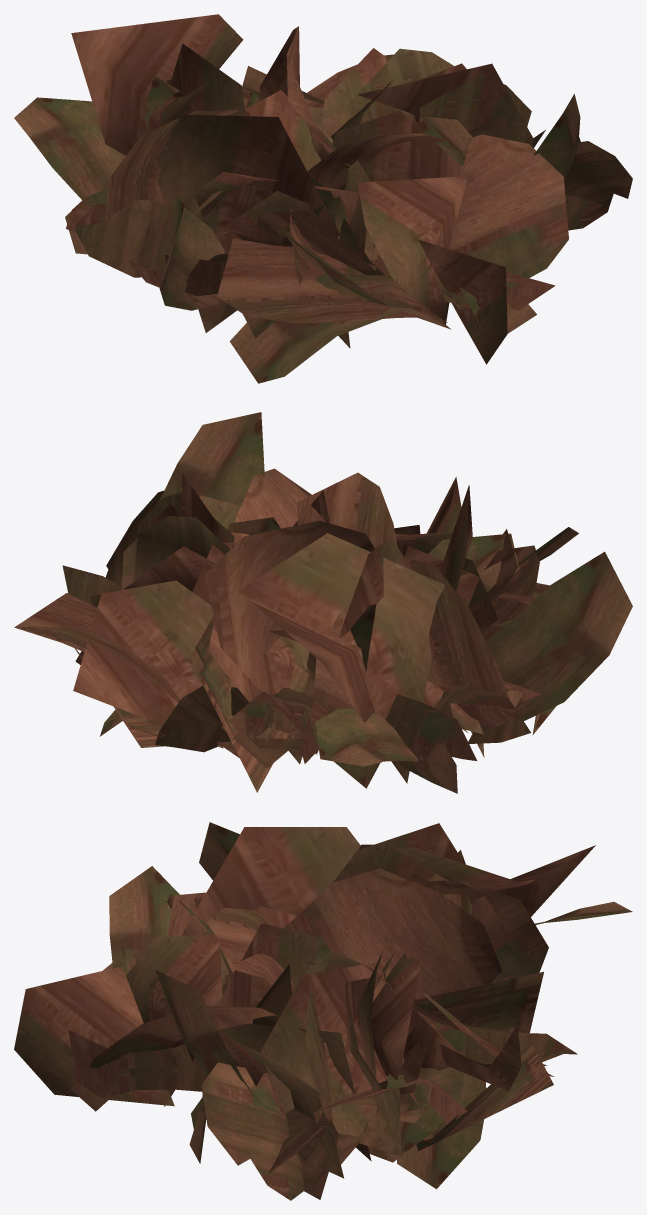
3 views of the same model, one above another, from view 1: azimuth 30°, elevation 25°; view 2: azimuth 150°, elevation 25°; view 3: azimuth 270°, elevation 25° (orthographic). The views are drawn at different scales.
Parts seen in each view (by area): view 1: SM_GothicBench02_LOD0; view 2: SM_GothicBench02_LOD0; view 3: SM_GothicBench02_LOD0.
Boxes of the visible parts, box(x1,y1,x2,y2) form: SM_GothicBench02_LOD0: box(14, 14, 632, 383); SM_GothicBench02_LOD0: box(14, 412, 632, 793); SM_GothicBench02_LOD0: box(14, 822, 632, 1200).
Size of the model in its own units: 1.88 by 0.9345 by 2.07.
